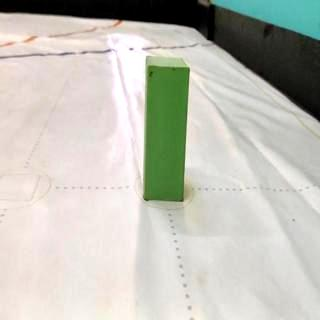greenbox: (143, 54, 191, 202)
